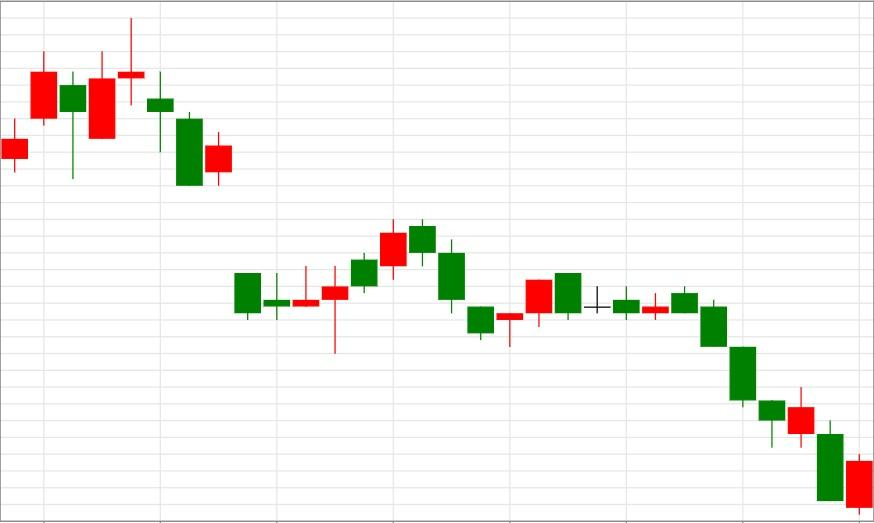three_black_crows_fall: (467, 271, 757, 405), (233, 219, 495, 352)
